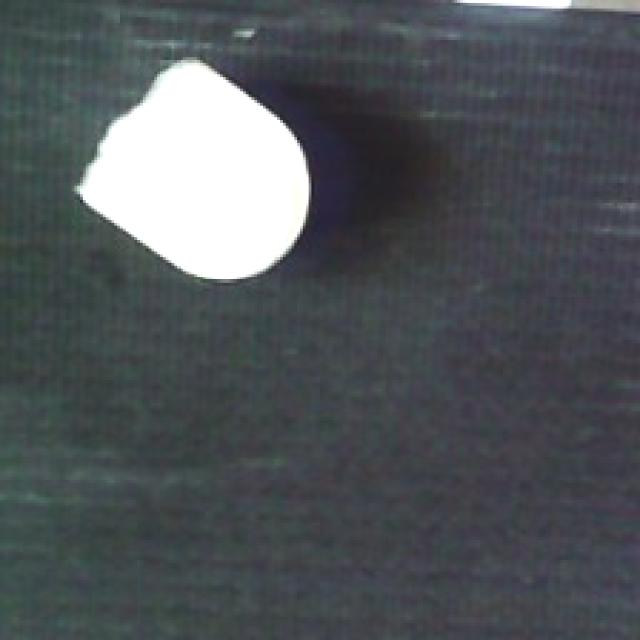defected: (63, 49, 323, 288)
